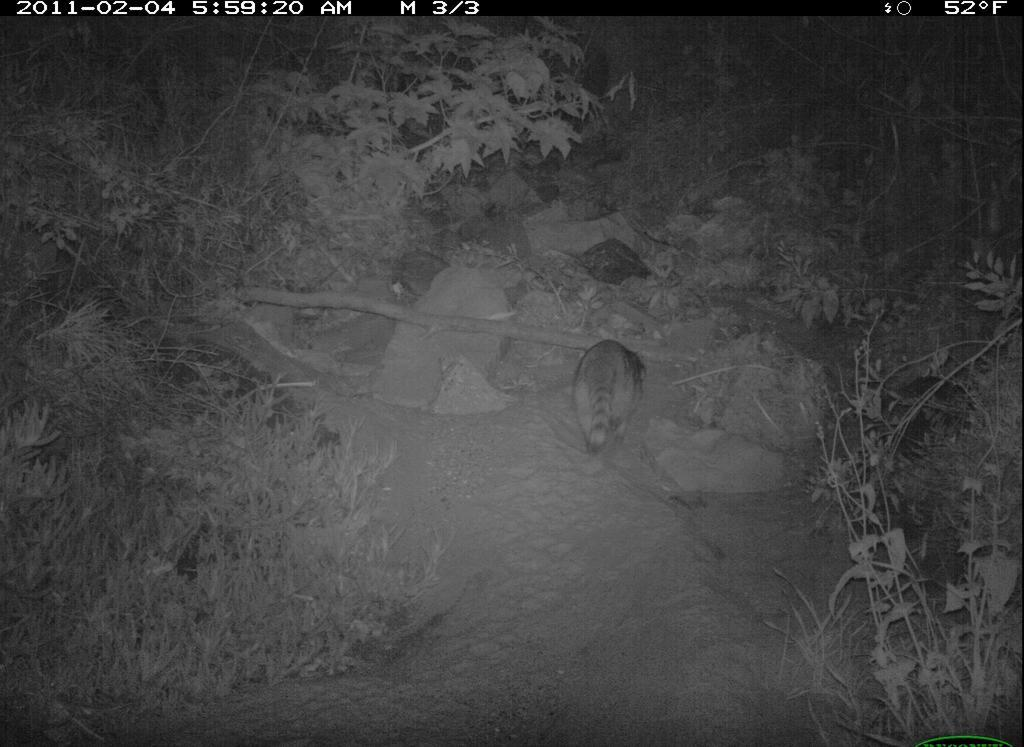raccoon: (560, 326, 657, 470)
